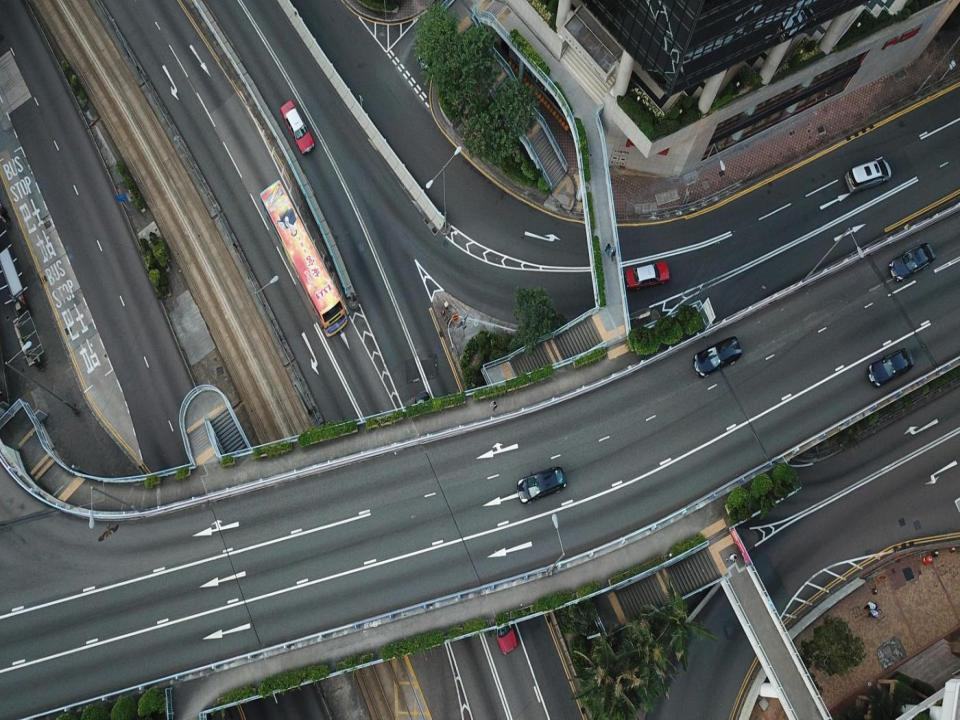bus: (257, 178, 352, 337)
car: (280, 96, 316, 156), (514, 463, 568, 503), (483, 598, 520, 655), (693, 336, 743, 378), (886, 240, 936, 282), (866, 344, 916, 386), (845, 154, 893, 195), (625, 260, 668, 289)
